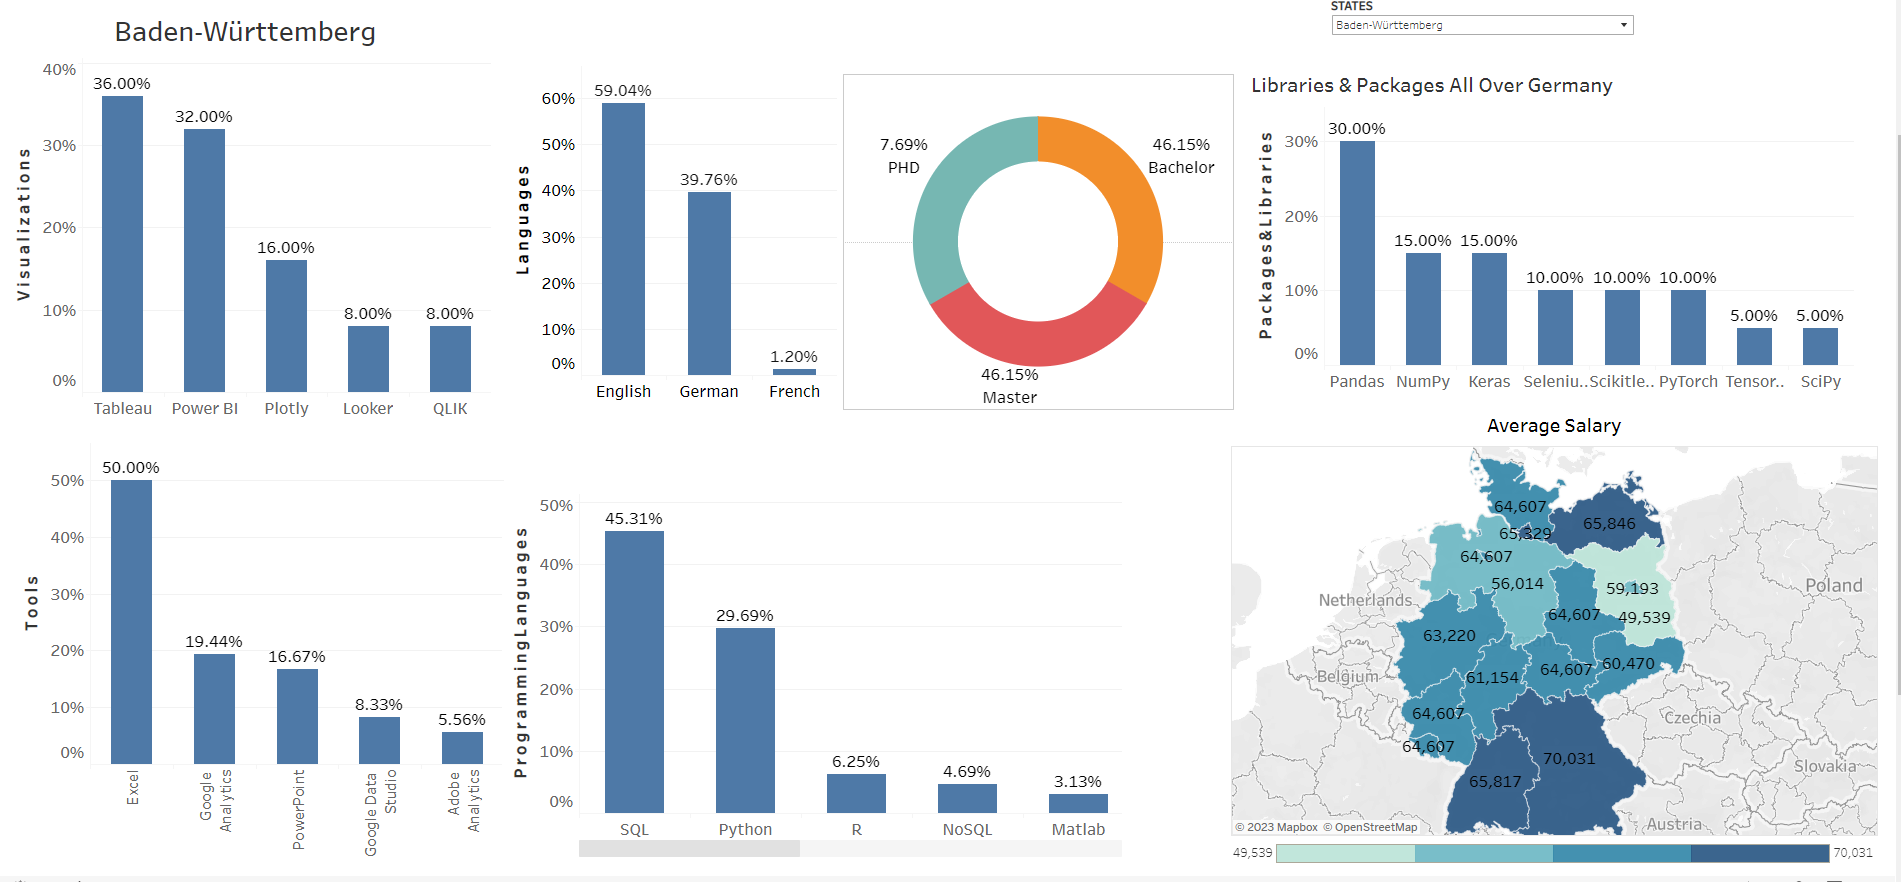

The page's visual inventory and layout, read from the dashboard file:
{"tool":"tableau","page":{"name":"Data analyst requirement analysis","canvas":[1900,900],"ordinal":1},"visuals":[{"type":"filter","title":"Visualizatiions","param":"[federated.0vf1n8f0axfnpd1bbzhre0s463vd].[none:States:nk]","box":[1336,20,304,50]},{"type":"worksheet","title":"Visualizatiions","mark":"Automatic","rows":["Visualizations"],"cols":["Visualizations"],"box":[10.1,29,486.2,414]},{"type":"worksheet","title":"Languages","mark":"Automatic","rows":["Languages"],"cols":["Languages"],"box":[509,75,333,351]},{"type":"worksheet","title":"Education","mark":"Pie","rows":["Calculation_1502232005570347011","Calculation_1502232005570347011"],"box":[848,83,391,351]},{"type":"worksheet","title":"Packages and libraries","mark":"Automatic","rows":["Packages and Libraries"],"cols":["Packages and Libraries"],"box":[1252,88,607,328]},{"type":"text","box":[943,193,227,40]},{"type":"text","box":[74.9,206,399,44]},{"type":"worksheet","title":"Salary per state","mark":"Multipolygon","box":[1236.1,428,647.1,432]},{"type":"worksheet","title":"Tools","mark":"Automatic","rows":["Tools"],"cols":["Tools"],"box":[17.9,452,490.7,447]},{"type":"worksheet","title":"Programming languages","mark":"Automatic","rows":["Programming Languages"],"cols":["Programming Languages"],"box":[507.4,503,619.2,379]},{"type":"text","box":[98.3,621,399,44]},{"type":"legend","title":"Salary per state","param":"[federated.0vf1n8f0axfnpd1bbzhre0s463vd].[avg:Average Salary:qk]","box":[1233.9,864,649.3,37]}]}

Visuals, with their boxes in screenshot pixels (x1, y1, x2, y2), scaled from the page's 1900x900 canvas onto the 1901x882 screenshot:
"Visualizatiions" filter: x1=1337, y1=20, x2=1641, y2=69
"Visualizatiions" worksheet: x1=10, y1=28, x2=497, y2=434
"Languages" worksheet: x1=509, y1=74, x2=842, y2=417
"Education" worksheet (Pie marks): x1=848, y1=81, x2=1240, y2=425
"Packages and libraries" worksheet: x1=1253, y1=86, x2=1860, y2=408
text: x1=943, y1=189, x2=1171, y2=228
text: x1=75, y1=202, x2=474, y2=245
"Salary per state" worksheet (Multipolygon marks): x1=1237, y1=419, x2=1884, y2=843
"Tools" worksheet: x1=18, y1=443, x2=509, y2=881
"Programming languages" worksheet: x1=508, y1=493, x2=1127, y2=864
text: x1=98, y1=609, x2=498, y2=652
"Salary per state" legend: x1=1235, y1=847, x2=1884, y2=881
